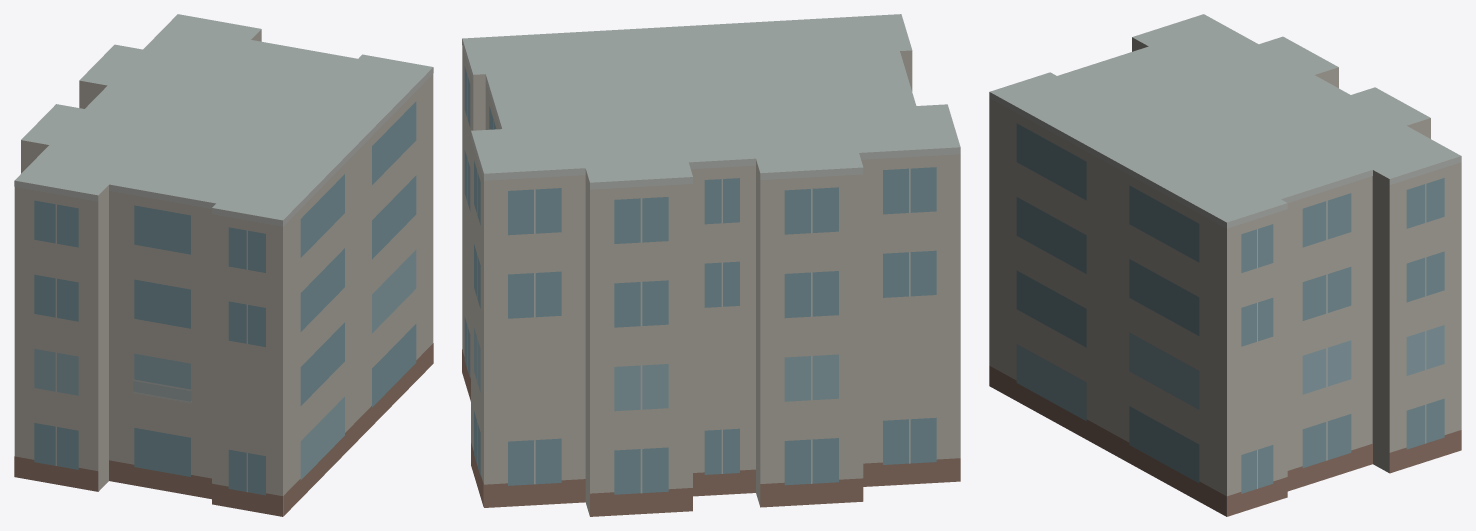
Rendered from survey-upis-32624754.glb.
3 renders of one model, left to right at view 1: azimuth 30°, elevation 25°; view 2: azimuth 150°, elevation 25°; view 3: azimuth 270°, elevation 25°, orthographic. The views are drawn at different scales.
Visible parts, largest first — view 1: survey-upis-32624754.tmp; view 2: survey-upis-32624754.tmp; view 3: survey-upis-32624754.tmp.
Boxes of the visible parts, x1,y1,x2,y2 form: survey-upis-32624754.tmp: (14, 14, 433, 516); survey-upis-32624754.tmp: (462, 14, 960, 516); survey-upis-32624754.tmp: (989, 14, 1461, 516).
Bounding box in the file's own units: 17.79 × 11.7 × 17.02.
